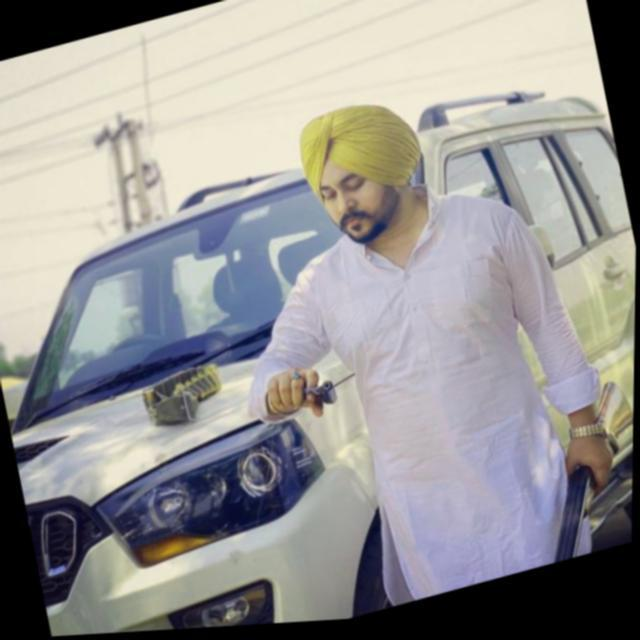weapon: (292, 376, 346, 426)
